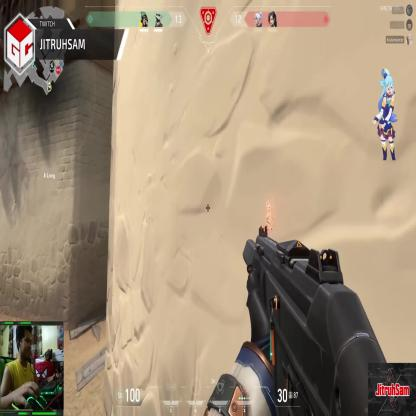enemy: (265, 200, 273, 236)
enemy_head: (266, 200, 269, 206)
